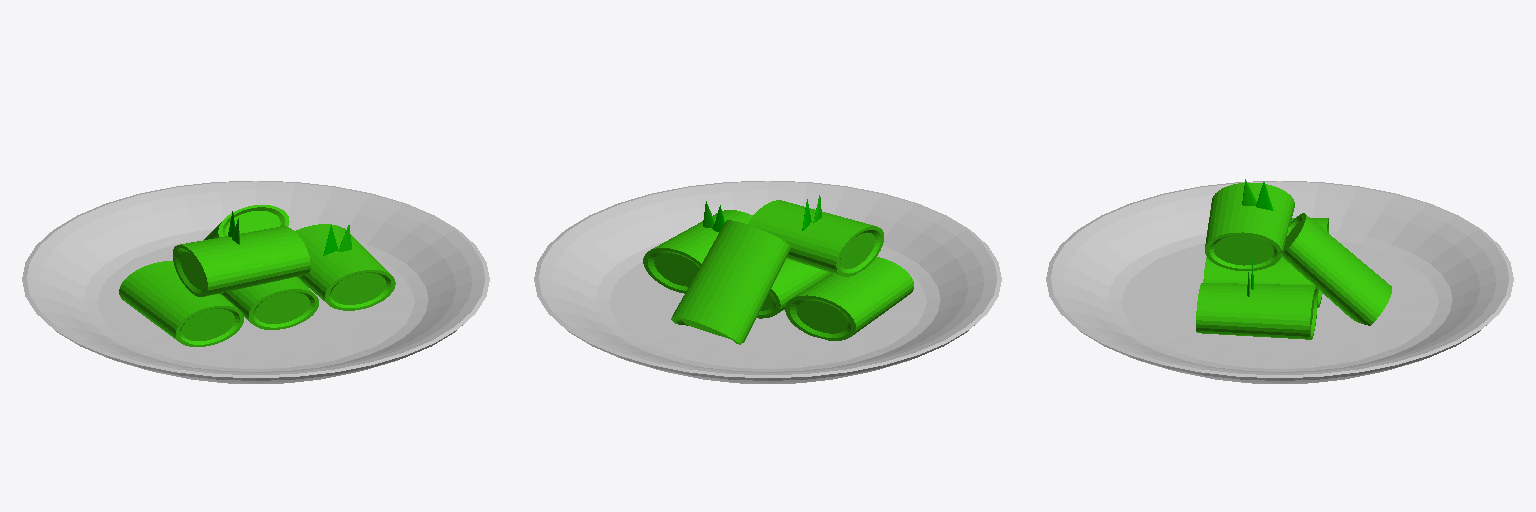
Rendered from getas.obj.
3 renders of one model, left to right at view 1: azimuth 30°, elevation 25°; view 2: azimuth 150°, elevation 25°; view 3: azimuth 270°, elevation 25°, orthographic.
Parts seen in each view (by area): view 1: Cylinder, Cylinder.004_Cylinder.006, Cylinder.005, Cylinder.002_Cylinder.003, Cylinder.001_Cylinder.002, Cylinder.003_Cylinder.004; view 2: Cylinder, Cylinder.003_Cylinder.004, Cylinder.005, Cylinder.004_Cylinder.006, Cylinder.002_Cylinder.003, Cylinder.001_Cylinder.002; view 3: Cylinder, Cylinder.002_Cylinder.003, Cylinder.004_Cylinder.006, Cylinder.003_Cylinder.004, Cylinder.001_Cylinder.002.
Part boxes in pixels (x1,y1,x2,y2): Cylinder: (22,181,489,383); Cylinder.004_Cylinder.006: (173,226,310,296); Cylinder.005: (119,261,243,346); Cylinder.002_Cylinder.003: (295,224,395,310); Cylinder.001_Cylinder.002: (220,277,318,329); Cylinder.003_Cylinder.004: (204,205,289,239); Cylinder: (534,181,1001,383); Cylinder.003_Cylinder.004: (671,220,790,344); Cylinder.005: (785,257,913,340); Cylinder.004_Cylinder.006: (748,200,883,276); Cylinder.002_Cylinder.003: (643,210,752,293); Cylinder.001_Cylinder.002: (757,258,830,318); Cylinder: (1046,181,1513,383); Cylinder.002_Cylinder.003: (1196,283,1317,339); Cylinder.004_Cylinder.006: (1205,183,1294,270); Cylinder.003_Cylinder.004: (1278,213,1391,325); Cylinder.001_Cylinder.002: (1203,257,1322,307).
Size of the model in its own units: 2.31 by 0.6586 by 2.31.